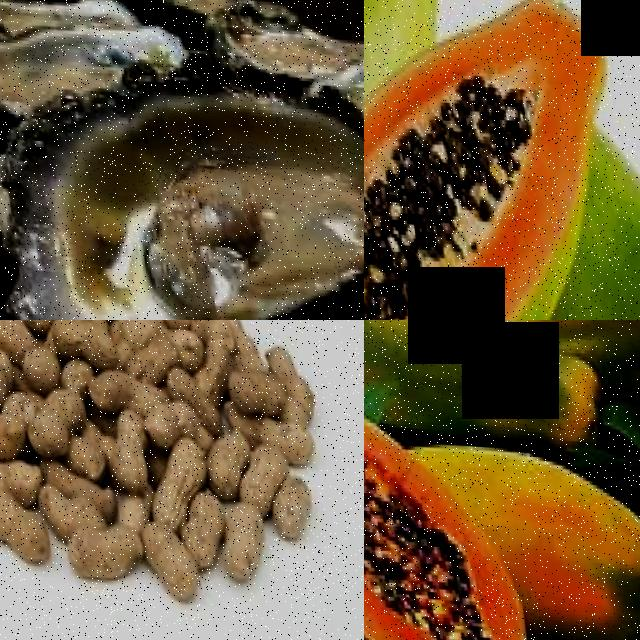oysters: (0, 69, 364, 320), (319, 38, 364, 157)
pawpaw: (364, 0, 634, 320), (489, 444, 640, 640), (364, 453, 518, 640)
peanuts: (52, 515, 136, 579), (12, 377, 82, 452), (130, 516, 184, 597), (97, 402, 146, 487), (171, 479, 218, 565), (207, 498, 257, 575), (192, 419, 238, 492), (234, 434, 282, 503), (0, 481, 40, 561), (219, 359, 280, 411), (261, 465, 308, 532), (77, 359, 134, 409), (153, 425, 198, 485), (40, 320, 109, 357), (134, 388, 174, 442), (0, 445, 31, 488)
